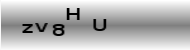8: (51, 23, 65, 37)
H: (65, 7, 80, 20)
U: (91, 18, 108, 31)
v: (34, 22, 49, 32)
z: (21, 23, 34, 33)
